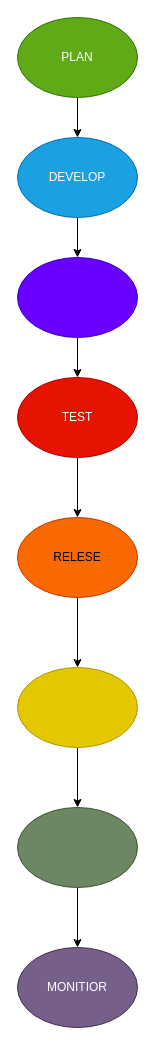
Image size: 155x1045. Some labels were removed from this diagram. The shapes that lost their labels are listed below. From the top down, each one's box as (x1, y1, x2, y2) in pixels, then its label:
(16, 256, 138, 338): BUILD
(16, 666, 138, 748): DEPLOY
(16, 806, 138, 888): OPERATE
